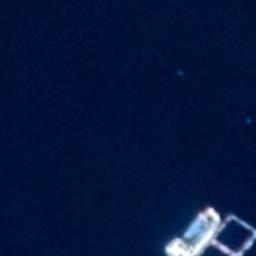square_solid: (207, 211, 256, 256)
